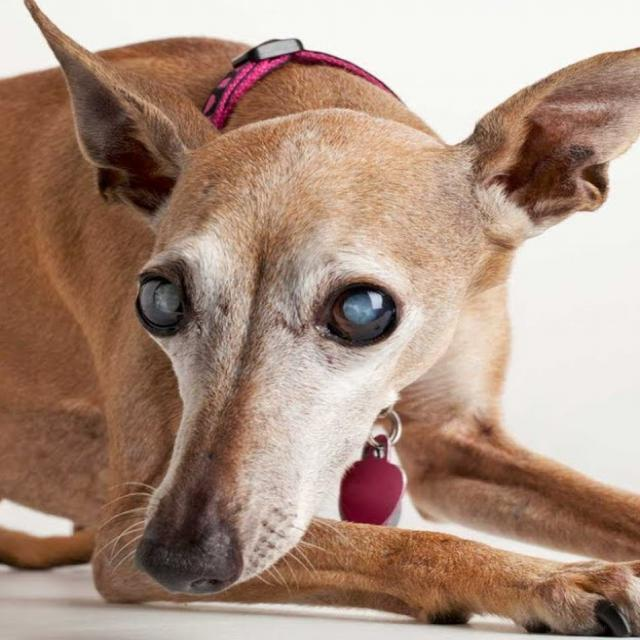eye: (312, 274, 402, 350), (131, 267, 192, 334)
